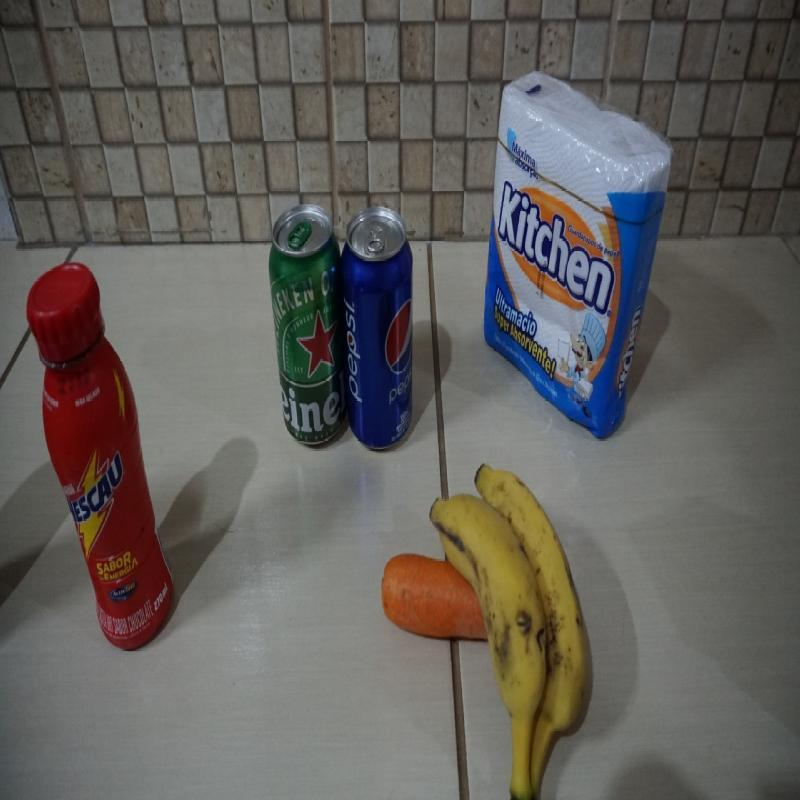Banana: (429, 461, 589, 799), (435, 463, 592, 781)
Beer can: (260, 199, 345, 453), (266, 202, 345, 452)
Carrot: (379, 549, 491, 649), (386, 551, 478, 636)
Chocolate Milk: (19, 263, 183, 660), (25, 259, 176, 651)
Napkin: (482, 68, 674, 444), (491, 68, 662, 439)
Soda can: (340, 206, 416, 454), (347, 203, 420, 446)
